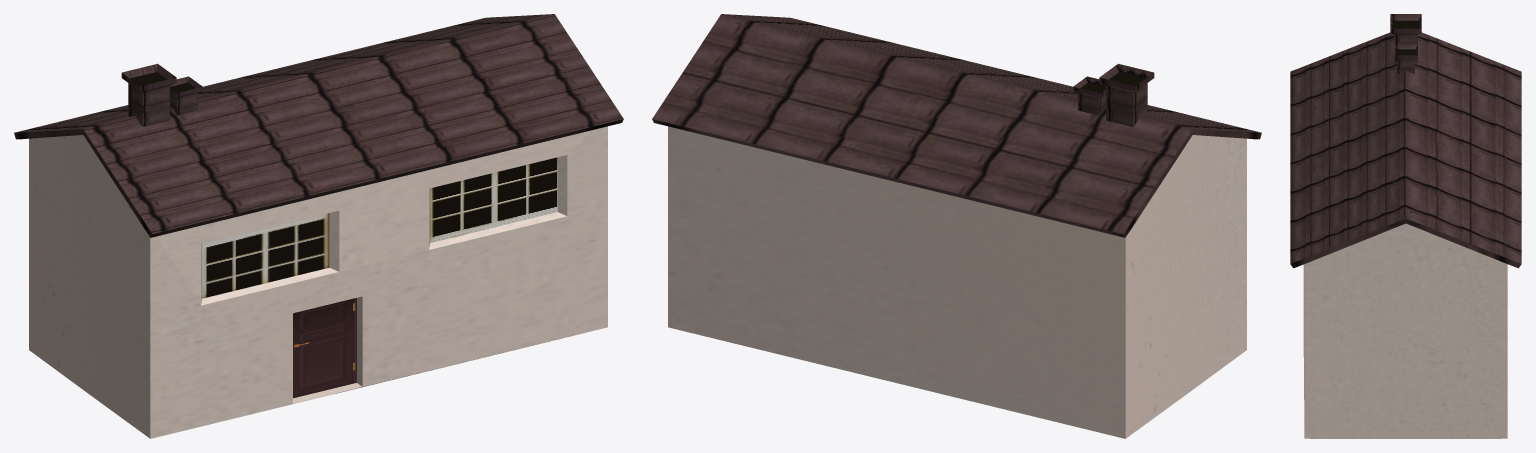
File: building2.fbx
The picture shows the model from 3 angles, left to right: view 1: azimuth 30°, elevation 25°; view 2: azimuth 150°, elevation 25°; view 3: azimuth 270°, elevation 25°; orthographic projection. The views are drawn at different scales.
Parts seen in each view (by area): view 1: Cube.003; view 2: Cube.003; view 3: Cube.003.
Boxes of the visible parts, x1=… form: Cube.003: x1=14, y1=14, x2=623, y2=438; Cube.003: x1=652, y1=14, x2=1261, y2=438; Cube.003: x1=1290, y1=14, x2=1521, y2=438.
Size of the model in its own units: 910 by 563 by 463.
2 materials, 2 textured.
